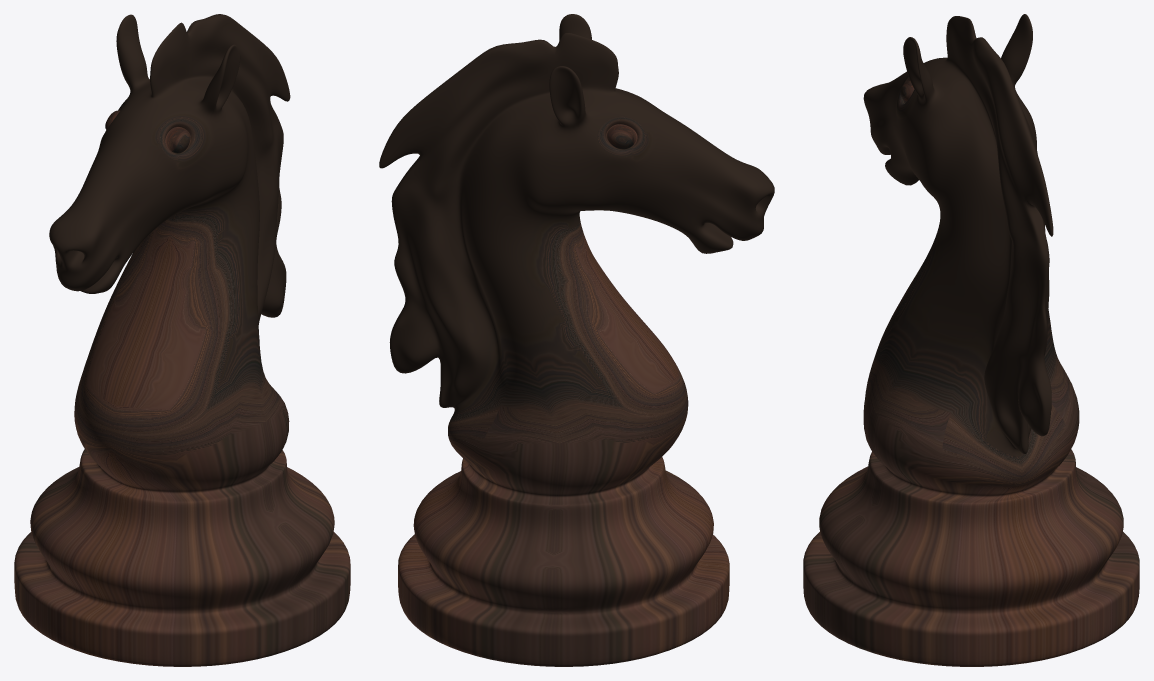
File: knight.glb
The picture shows the model from 3 angles, left to right: view 1: azimuth 30°, elevation 25°; view 2: azimuth 150°, elevation 25°; view 3: azimuth 270°, elevation 25°; orthographic projection.
Visible parts, largest first — view 1: Sphere.003_Material.001_0; view 2: Sphere.003_Material.001_0; view 3: Sphere.003_Material.001_0.
Boxes of the visible parts, left/top/right/bottom form: Sphere.003_Material.001_0: left=14, top=14, right=350, bottom=666; Sphere.003_Material.001_0: left=379, top=14, right=774, bottom=666; Sphere.003_Material.001_0: left=803, top=14, right=1139, bottom=666.
Size of the model in its own units: 4.44 by 7.72 by 4.07.
1 material, 1 textured.
